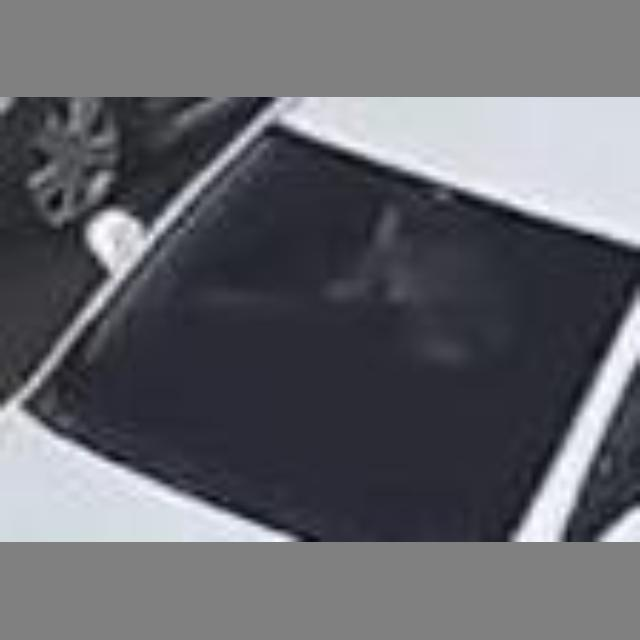tidak-pakai: (331, 200, 520, 383)
